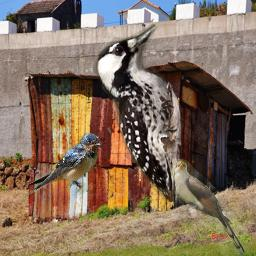Cuckoo: (172, 159, 247, 256)
Swallow: (23, 133, 102, 199)
Woodpecker: (93, 24, 182, 202)
